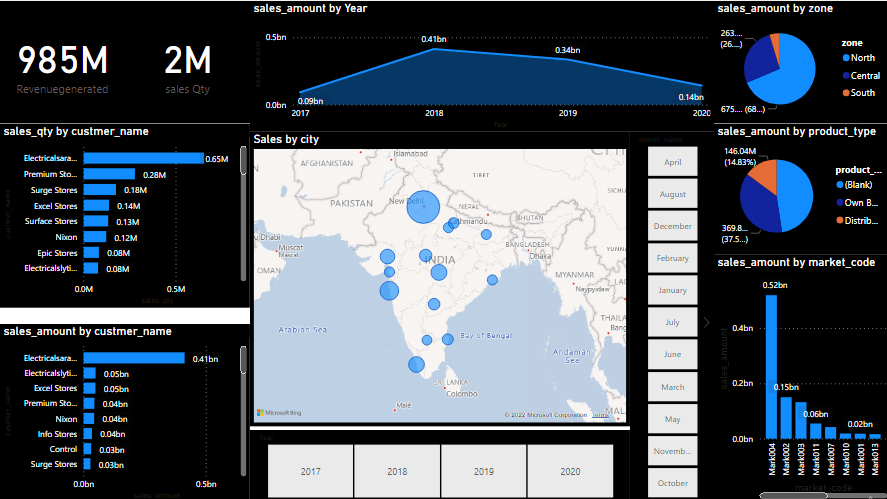

The page's visual inventory and layout, read from the dashboard file:
{"tool":"powerbi","page":{"name":"Page 1","canvas":[1280,720],"ordinal":0},"visuals":[{"type":"card","fields":{"Values":["new measures.Revenuegenerated"]},"box":[0,0,179.7,176.4],"z":0},{"type":"card","fields":{"Values":["new measures.sales Qty"]},"box":[179.7,0,179.7,176.4],"z":1000},{"type":"map","title":"Sales by city","fields":{"Size":["Sum(sales transactions.sales_qty)"],"Category":["sales markets.markets_name"]},"box":[359.5,188.1,545.9,423.3],"z":2000},{"type":"barChart","fields":{"Category":["sales customers.custmer_name"],"Y":["Sum(sales transactions.sales_qty)"]},"box":[0,176.4,359.5,287.2],"z":3000},{"type":"barChart","fields":{"Category":["sales customers.custmer_name"],"Y":["Sum(sales transactions.sales_amount)"]},"box":[0,463.6,359.5,257],"z":4000},{"type":"slicer","fields":{"Values":["sales date.cy_date.Variation.Date Hierarchy.Year"]},"box":[359.5,616.5,545.9,104.1],"z":5000},{"type":"slicer","fields":{"Values":["sales date.month_name"]},"box":[905.4,188.1,120.9,532.5],"z":5001},{"type":"areaChart","fields":{"Y":["Sum(sales transactions.sales_amount)"],"Category":["sales date.date.Variation.Date Hierarchy.Year","sales date.date.Variation.Date Hierarchy.Quarter","sales date.date.Variation.Date Hierarchy.Month","sales date.date.Variation.Date Hierarchy.Day"]},"box":[359.5,0,666.9,188.1],"z":5002},{"type":"pieChart","fields":{"Y":["Sum(sales transactions.sales_amount)"],"Category":["sales markets.zone"]},"box":[1026.4,0,253.6,176.4],"z":5003},{"type":"pieChart","fields":{"Y":["Sum(sales transactions.sales_amount)"],"Category":["sales products.product_type"]},"box":[1026.4,176.4,253.6,188.1],"z":5004},{"type":"clusteredColumnChart","fields":{"Category":["sales transactions.market_code"],"Y":["Sum(sales transactions.sales_amount)"]},"box":[1041.5,364.5,238.5,356.1],"z":5005}]}

Visuals, with their boxes in screenshot pixels (x1, y1, x2, y2), scaled from the page's 1280x720 canvas onto the 887x499 screenshot:
card - new measures.Revenuegenerated: locate(0, 0, 125, 122)
card - new measures.sales Qty: locate(125, 0, 249, 122)
"Sales by city" map: locate(249, 130, 627, 424)
barChart - sales customers.custmer_name x Sum(sales transactions.sales_qty): locate(0, 122, 249, 321)
barChart - sales customers.custmer_name x Sum(sales transactions.sales_amount): locate(0, 321, 249, 498)
slicer - sales date.cy_date.Variation.Date Hierarchy.Year: locate(249, 427, 627, 498)
slicer - sales date.month_name: locate(627, 130, 711, 498)
areaChart - Sum(sales transactions.sales_amount) x sales date.date.Variation.Date Hierarchy.Year: locate(249, 0, 711, 130)
pieChart - Sum(sales transactions.sales_amount) x sales markets.zone: locate(711, 0, 886, 122)
pieChart - Sum(sales transactions.sales_amount) x sales products.product_type: locate(711, 122, 886, 253)
clusteredColumnChart - sales transactions.market_code x Sum(sales transactions.sales_amount): locate(722, 253, 886, 498)
